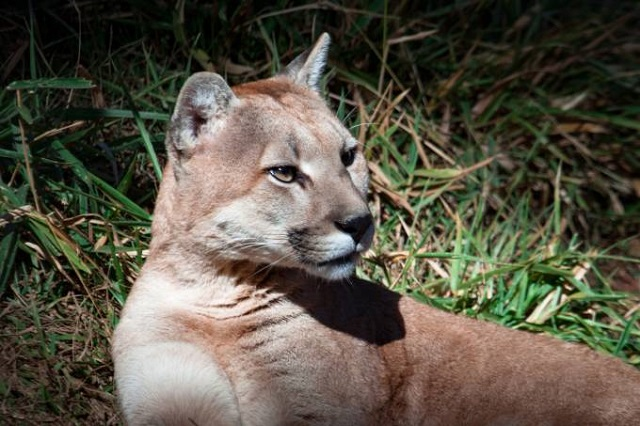OncaParda: (105, 26, 637, 418)
